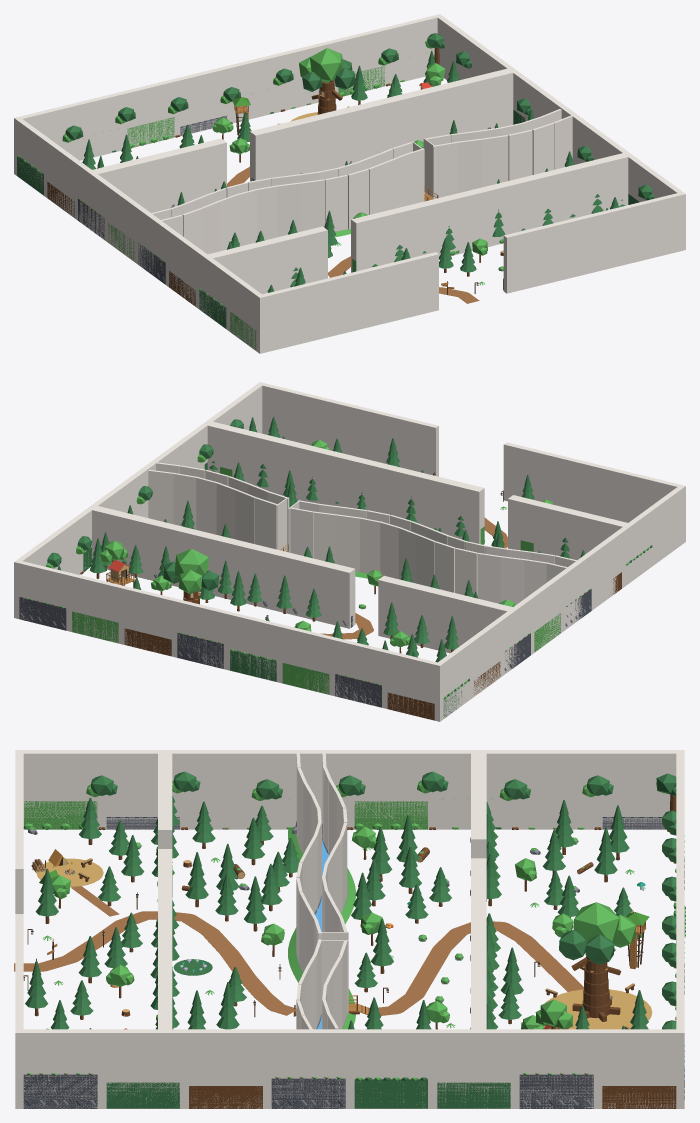
Rendered from CatCafe_Woods_SetV32.glb.
3 renders of one model, top to bottom at view 1: azimuth 30°, elevation 25°; view 2: azimuth 150°, elevation 25°; view 3: azimuth 270°, elevation 25°, orthographic. The views are drawn at different scales.
Visible parts, largest first — view 1: CatCafe_Woods_SetV32_053_Walls_Barrier, CatCafe_Woods_SetV32_056_Stream_Barrier, CatCafe_Woods_SetV32_055_Ridge_Barrier, CatCafe_Woods_SetV32_054_TreeLine_Barrier, CatCafe_Woods_SetV32_113_GreatOak, CatCafe_Woods_SetV32_054_TreeLine, CatCafe_Woods_SetV32_010_WallThicket, CatCafe_Woods_SetV32, CatCafe_Woods_SetV32_021_WallCliff, CatCafe_Woods_SetV32_017_WallDrystone, CatCafe_Woods_SetV32_029_WallDrystone, CatCafe_Woods_SetV32_025_WallCliff (+2 smaller); view 2: CatCafe_Woods_SetV32_053_Walls_Barrier, CatCafe_Woods_SetV32_056_Stream_Barrier, CatCafe_Woods_SetV32_054_TreeLine_Barrier, CatCafe_Woods_SetV32_055_Ridge_Barrier, CatCafe_Woods_SetV32_055_Ridge, CatCafe_Woods_SetV32_113_GreatOak, CatCafe_Woods_SetV32_054_TreeLine, CatCafe_Woods_SetV32_006_WallCliff, CatCafe_Woods_SetV32_000_WallCliff, CatCafe_Woods_SetV32_012_WallCliff, CatCafe_Woods_SetV32_008_WallDrystone, CatCafe_Woods_SetV32_010_WallThicket (+7 smaller); view 3: CatCafe_Woods_SetV32_053_Walls_Barrier, CatCafe_Woods_SetV32_056_Stream_Barrier, CatCafe_Woods_SetV32, CatCafe_Woods_SetV32_113_GreatOak, CatCafe_Woods_SetV32_055_Ridge_Barrier, CatCafe_Woods_SetV32_054_TreeLine_Barrier, CatCafe_Woods_SetV32_032_WallCliff, CatCafe_Woods_SetV32_044_WallCliff, CatCafe_Woods_SetV32_038_WallCliff, CatCafe_Woods_SetV32_036_WallDrystone, CatCafe_Woods_SetV32_055_Ridge, CatCafe_Woods_SetV32_023_WallThicket (+32 smaller).
Boxes of the visible parts, x1,y1,x2,y2 form: CatCafe_Woods_SetV32_053_Walls_Barrier: [14, 14, 685, 353]; CatCafe_Woods_SetV32_056_Stream_Barrier: [151, 109, 572, 254]; CatCafe_Woods_SetV32_055_Ridge_Barrier: [92, 68, 513, 212]; CatCafe_Woods_SetV32_054_TreeLine_Barrier: [208, 153, 628, 294]; CatCafe_Woods_SetV32_113_GreatOak: [299, 48, 355, 114]; CatCafe_Woods_SetV32_054_TreeLine: [267, 194, 625, 291]; CatCafe_Woods_SetV32_010_WallThicket: [127, 117, 174, 148]; CatCafe_Woods_SetV32: [227, 112, 479, 303]; CatCafe_Woods_SetV32_021_WallCliff: [138, 243, 165, 284]; CatCafe_Woods_SetV32_017_WallDrystone: [199, 288, 226, 328]; CatCafe_Woods_SetV32_029_WallDrystone: [17, 155, 43, 195]; CatCafe_Woods_SetV32_025_WallCliff: [78, 198, 104, 239]; CatCafe_Woods_SetV32_053_Walls_Barrier: [14, 382, 685, 721]; CatCafe_Woods_SetV32_056_Stream_Barrier: [148, 462, 576, 604]; CatCafe_Woods_SetV32_054_TreeLine_Barrier: [207, 421, 627, 560]; CatCafe_Woods_SetV32_055_Ridge_Barrier: [92, 506, 512, 653]; CatCafe_Woods_SetV32_055_Ridge: [101, 532, 482, 652]; CatCafe_Woods_SetV32_113_GreatOak: [163, 548, 219, 604]; CatCafe_Woods_SetV32_054_TreeLine: [209, 461, 570, 558]; CatCafe_Woods_SetV32_006_WallCliff: [177, 632, 223, 668]; CatCafe_Woods_SetV32_000_WallCliff: [19, 596, 66, 630]; CatCafe_Woods_SetV32_012_WallCliff: [335, 673, 381, 707]; CatCafe_Woods_SetV32_008_WallDrystone: [230, 649, 276, 681]; CatCafe_Woods_SetV32_010_WallThicket: [282, 663, 329, 694]; CatCafe_Woods_SetV32_053_Walls_Barrier: [15, 750, 684, 1108]; CatCafe_Woods_SetV32_056_Stream_Barrier: [296, 753, 348, 1030]; CatCafe_Woods_SetV32: [14, 858, 652, 1029]; CatCafe_Woods_SetV32_113_GreatOak: [559, 902, 635, 1021]; CatCafe_Woods_SetV32_055_Ridge_Barrier: [471, 753, 486, 1029]; CatCafe_Woods_SetV32_054_TreeLine_Barrier: [158, 753, 172, 1029]; CatCafe_Woods_SetV32_032_WallCliff: [519, 1073, 593, 1108]; CatCafe_Woods_SetV32_044_WallCliff: [23, 1073, 97, 1108]; CatCafe_Woods_SetV32_038_WallCliff: [271, 1077, 345, 1108]; CatCafe_Woods_SetV32_036_WallDrystone: [354, 1077, 427, 1108]; CatCafe_Woods_SetV32_055_Ridge: [470, 802, 501, 1029]; CatCafe_Woods_SetV32_023_WallThicket: [354, 801, 427, 829].
Size of the model in its own units: 240 by 44.14 by 240.
Materials: 1 (1 with a texture image).
